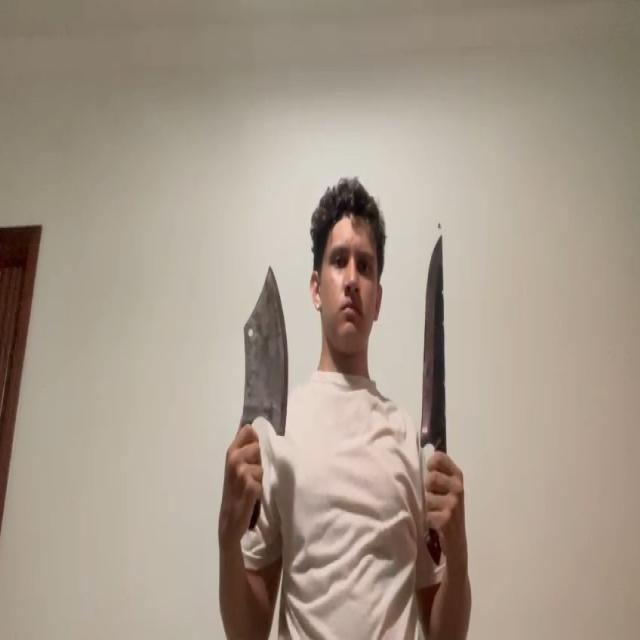knife: (243, 266, 288, 436), (418, 235, 446, 446)
